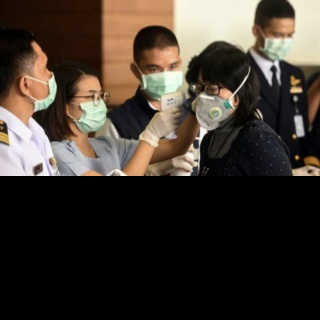with_mask: (190, 80, 232, 131), (140, 58, 184, 101), (72, 88, 108, 136), (31, 58, 56, 112), (261, 28, 292, 60)
